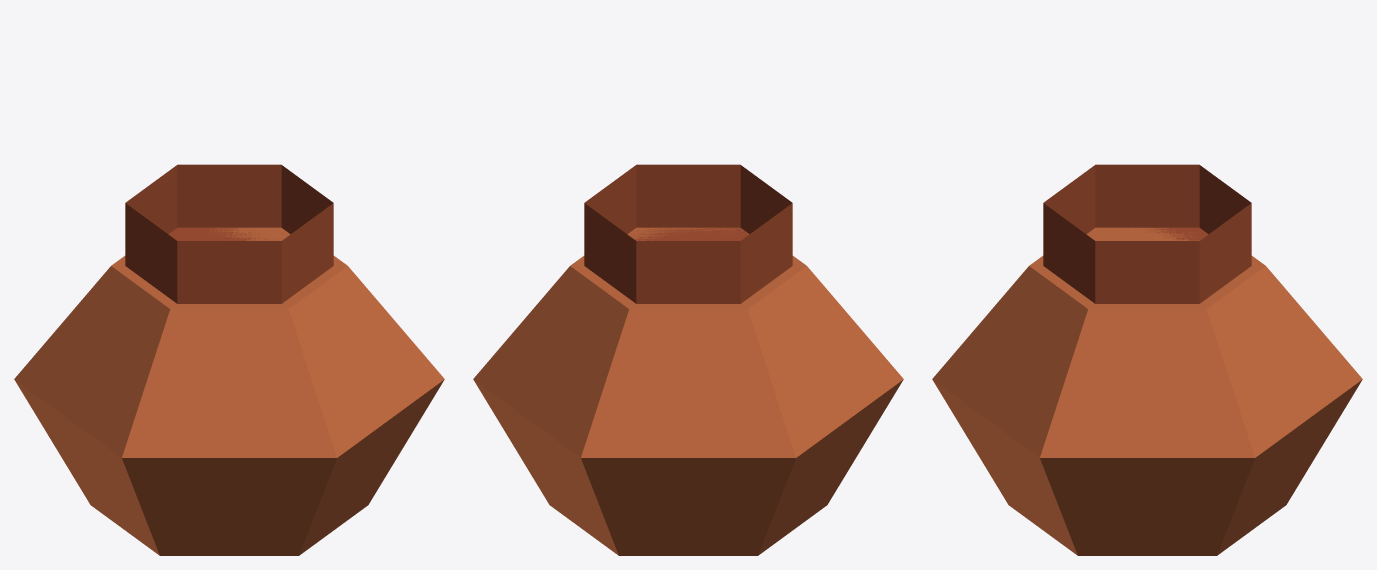
File: PR_FirePot.fbx
3 views of the same model, side by side, from view 1: azimuth 30°, elevation 25°; view 2: azimuth 150°, elevation 25°; view 3: azimuth 270°, elevation 25° (orthographic).
Parts seen in each view (by area): view 1: PR_FirePot; view 2: PR_FirePot; view 3: PR_FirePot.
Part boxes in pixels (x1,y1,x2,y2): PR_FirePot: (14,164,444,555); PR_FirePot: (473,164,903,555); PR_FirePot: (932,164,1362,555).
Bounding box in the file's own units: 0.2685 × 0.31 × 0.39.
